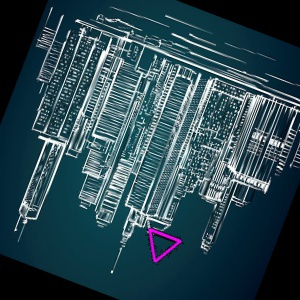triangle: (144, 222, 182, 264)
